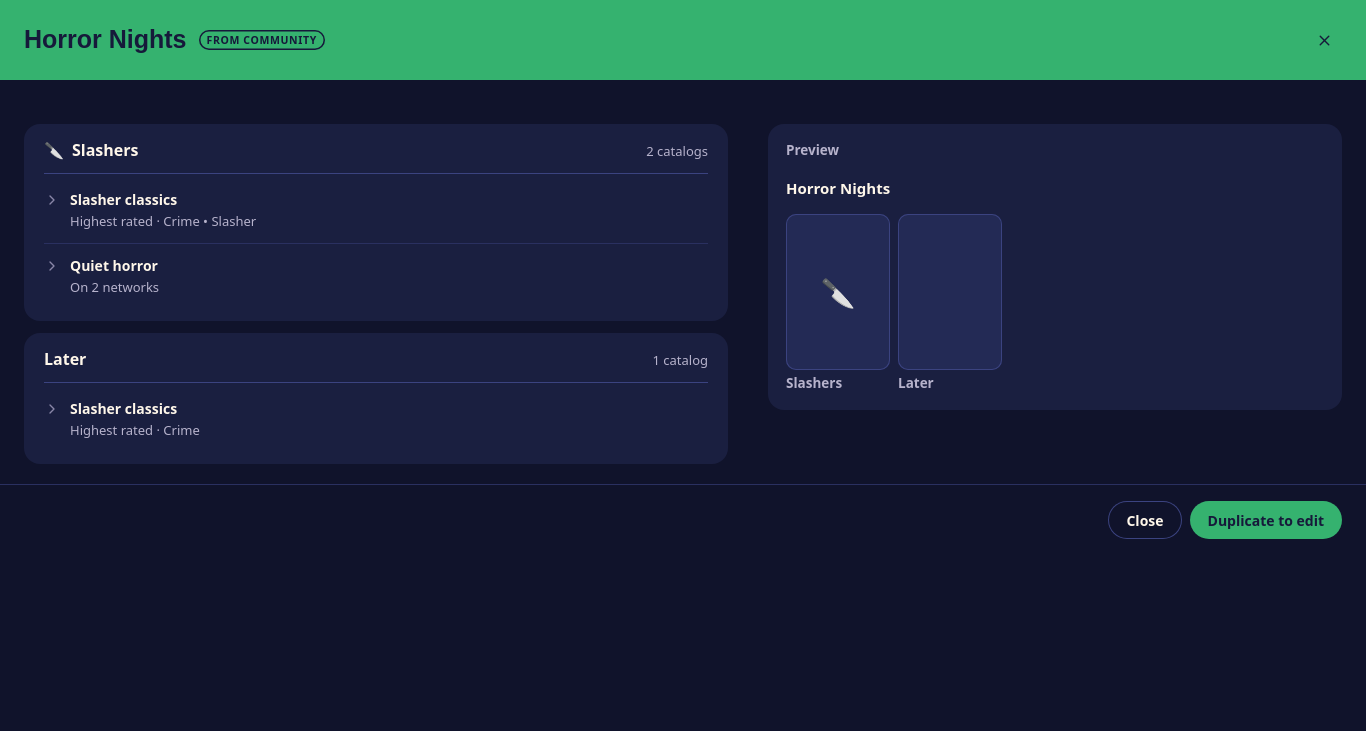
Test: CollectionFromCommunity › opens a catalog in place to its spec tiles, and closes it again
Click the button "Quiet horror On 2 networks": click(114, 265) left=44, top=252, right=708, bottom=301
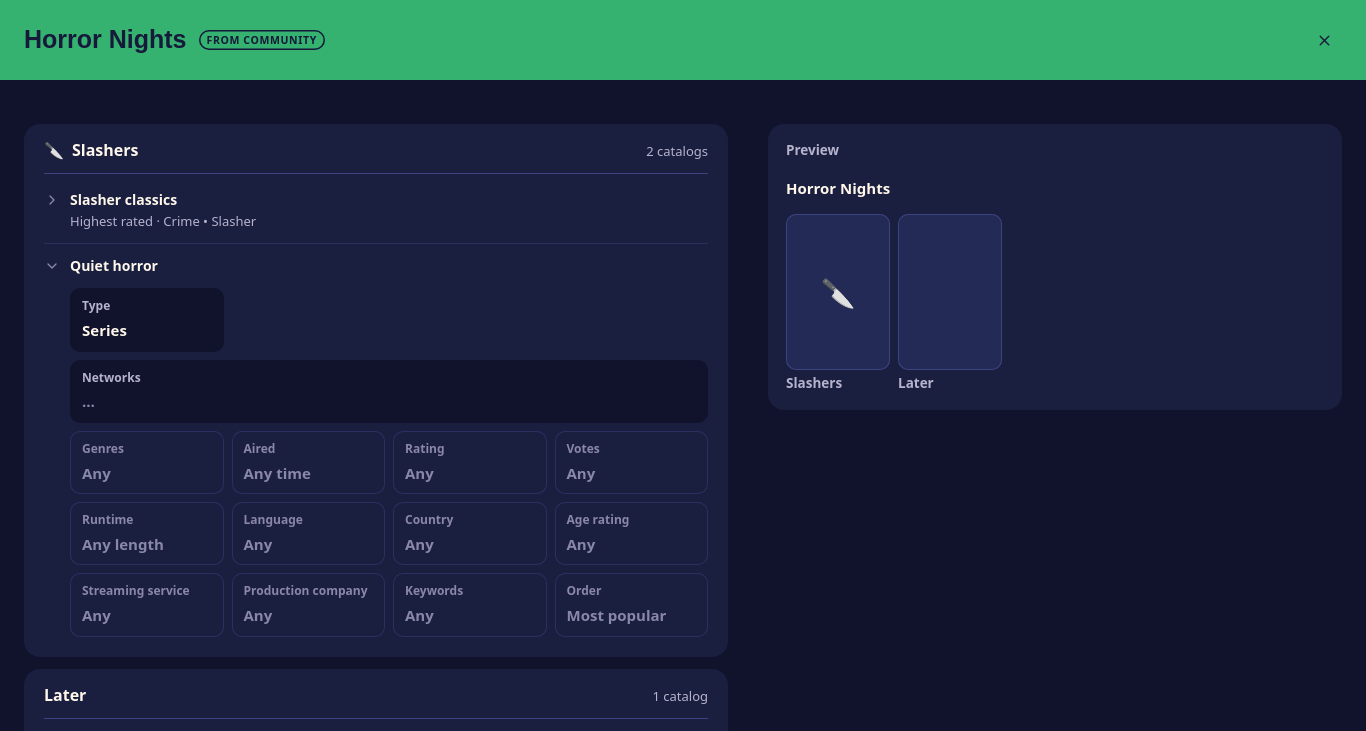
Expected: the text "Networks" is shown, left=82, top=369, right=141, bottom=386
Expected: the button "Quiet horror" is expanded
Expected: the text "Series" is shown, left=82, top=320, right=127, bottom=340
Click the button "Quiet horror": click(114, 265) left=44, top=252, right=708, bottom=280
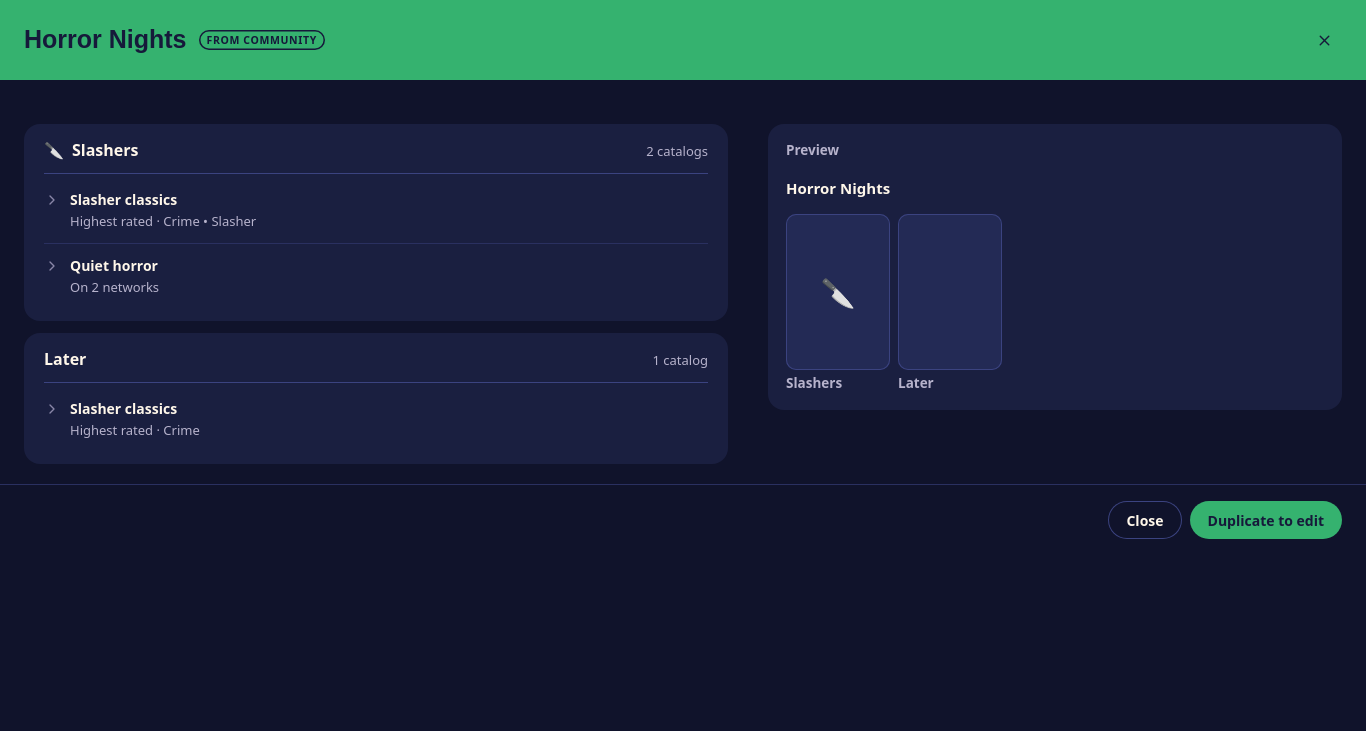
Expected: the button "Quiet horror On 2 networks" is collapsed, left=44, top=252, right=708, bottom=301
Expected: the text "Series" is gone
